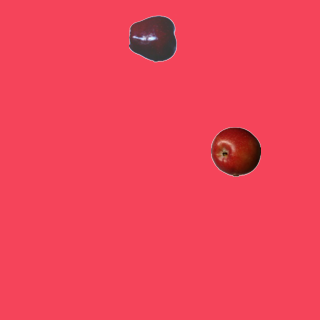Apple Braeburn: (210, 126, 260, 176)
Apple Red Delicious: (128, 13, 178, 63)
